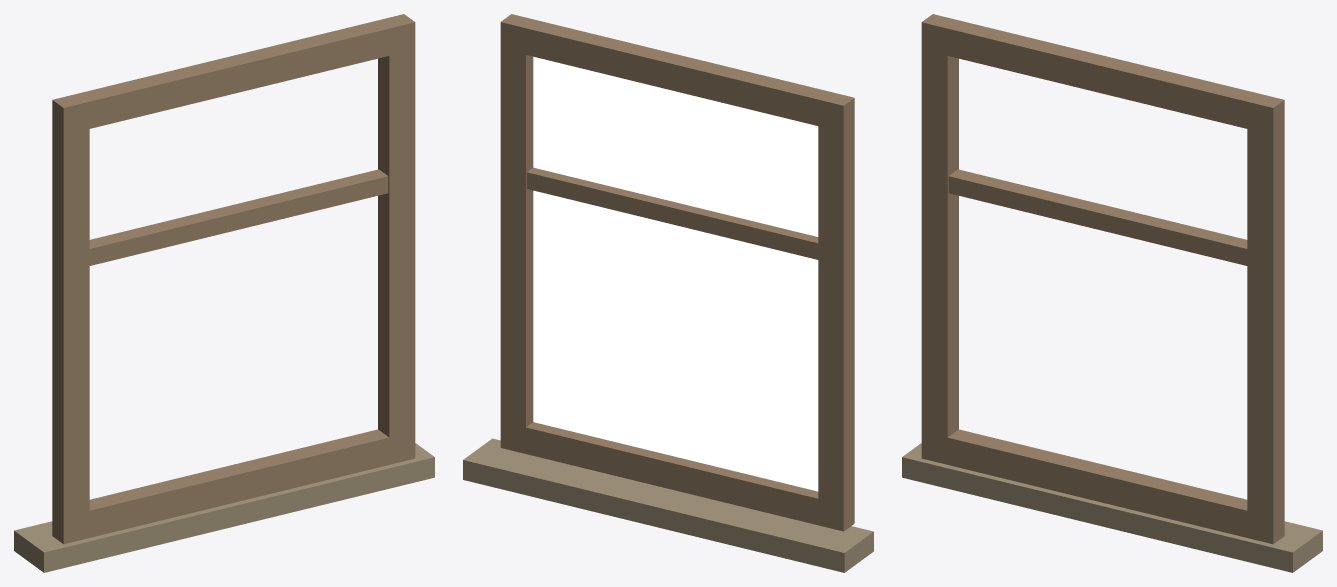
The model's file is carriage_window.glb.
The picture shows the model from 3 angles, left to right: view 1: azimuth 30°, elevation 25°; view 2: azimuth 150°, elevation 25°; view 3: azimuth 330°, elevation 25°; orthographic projection. The views are drawn at different scales.
Visible parts, largest first — view 1: Carriage_window; view 2: Carriage_window; view 3: Carriage_window.
Part boxes in pixels (x1,y1,x2,y2): Carriage_window: (14,14,434,572); Carriage_window: (463,14,873,572); Carriage_window: (902,14,1322,572).
Size of the model in its own units: 1.2 by 1.35 by 0.16.
